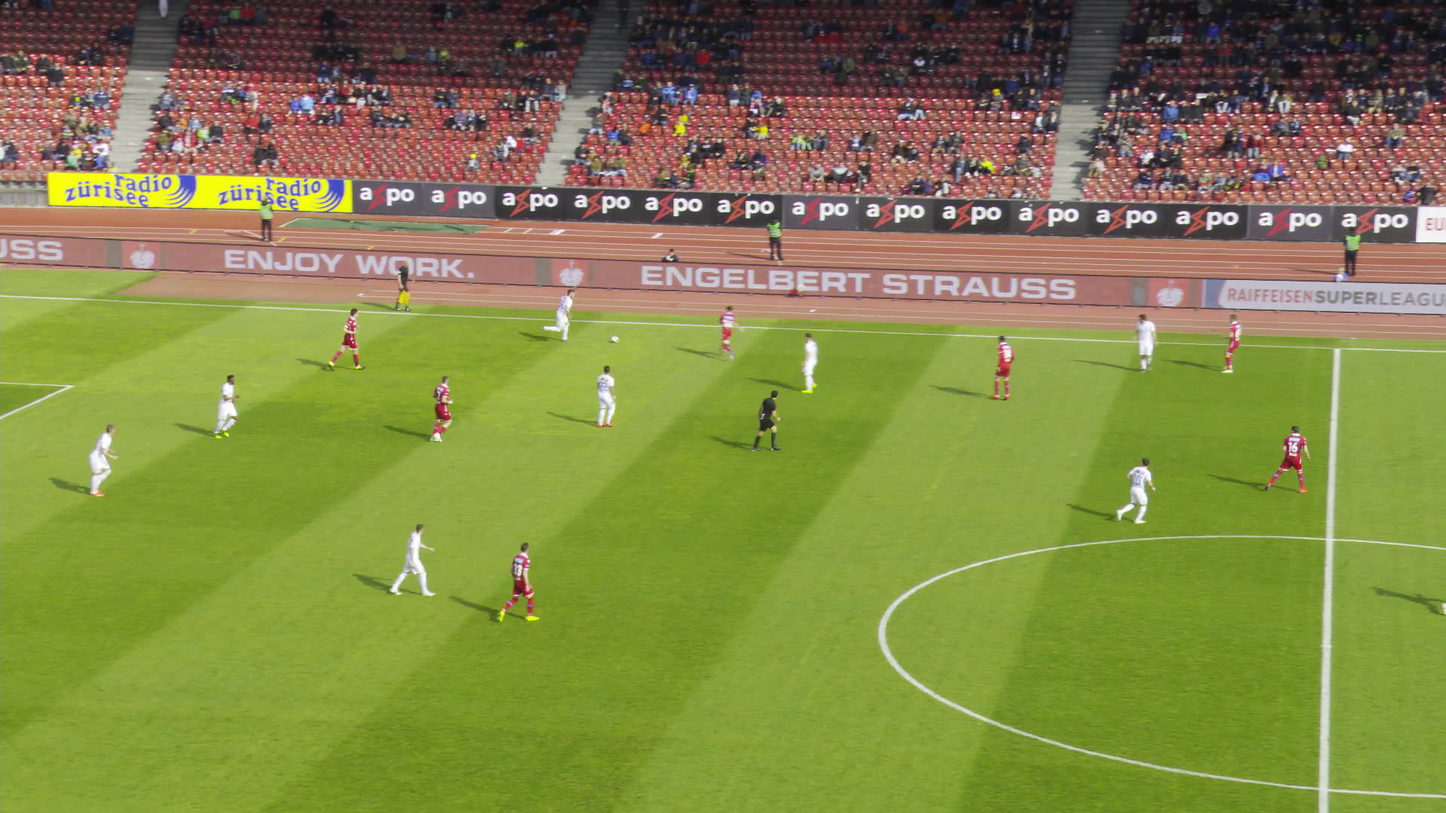ball: (612, 336, 618, 341)
player: (493, 539, 546, 625), (393, 519, 442, 596), (1266, 422, 1313, 492), (1115, 454, 1160, 524), (81, 421, 120, 495), (330, 304, 364, 372), (1216, 312, 1249, 375), (993, 333, 1023, 400), (428, 373, 456, 443), (215, 373, 243, 440), (801, 331, 831, 393), (1132, 310, 1162, 372), (541, 288, 575, 342), (595, 363, 621, 429), (725, 306, 748, 361)
referee: (755, 385, 784, 454), (398, 256, 415, 311)
